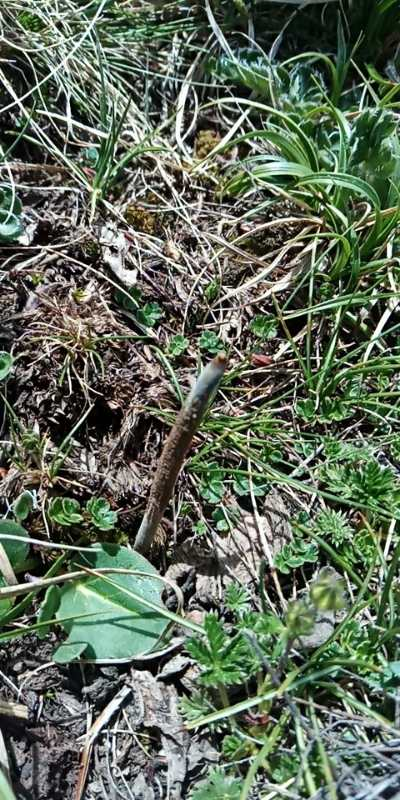Chongcao: (134, 353, 232, 551)
